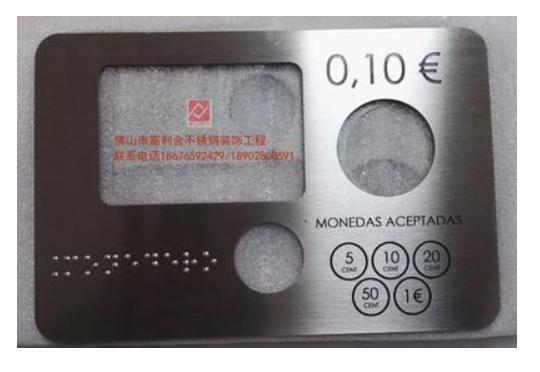Braille: (201, 250, 218, 275), (143, 252, 160, 276), (163, 251, 179, 276), (102, 253, 119, 276), (63, 254, 79, 277), (123, 253, 139, 276), (182, 251, 198, 274), (84, 254, 99, 277), (45, 255, 59, 278)
